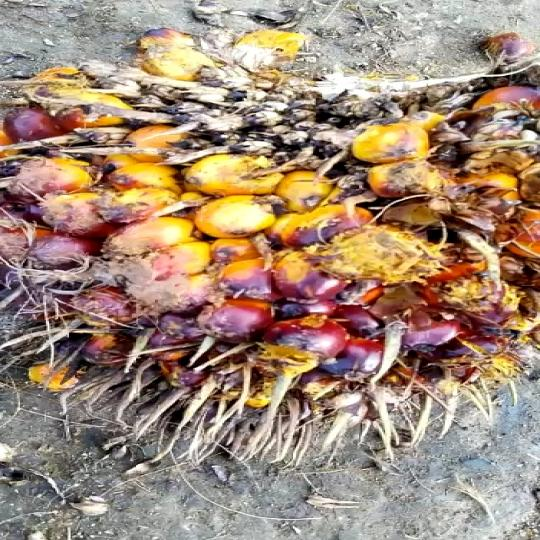masak: (0, 43, 540, 466)
